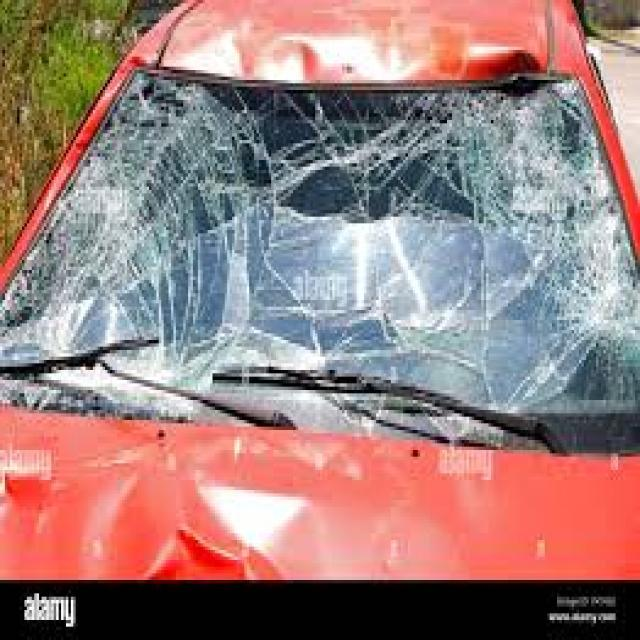damaged-windscreen: (3, 53, 640, 459)
